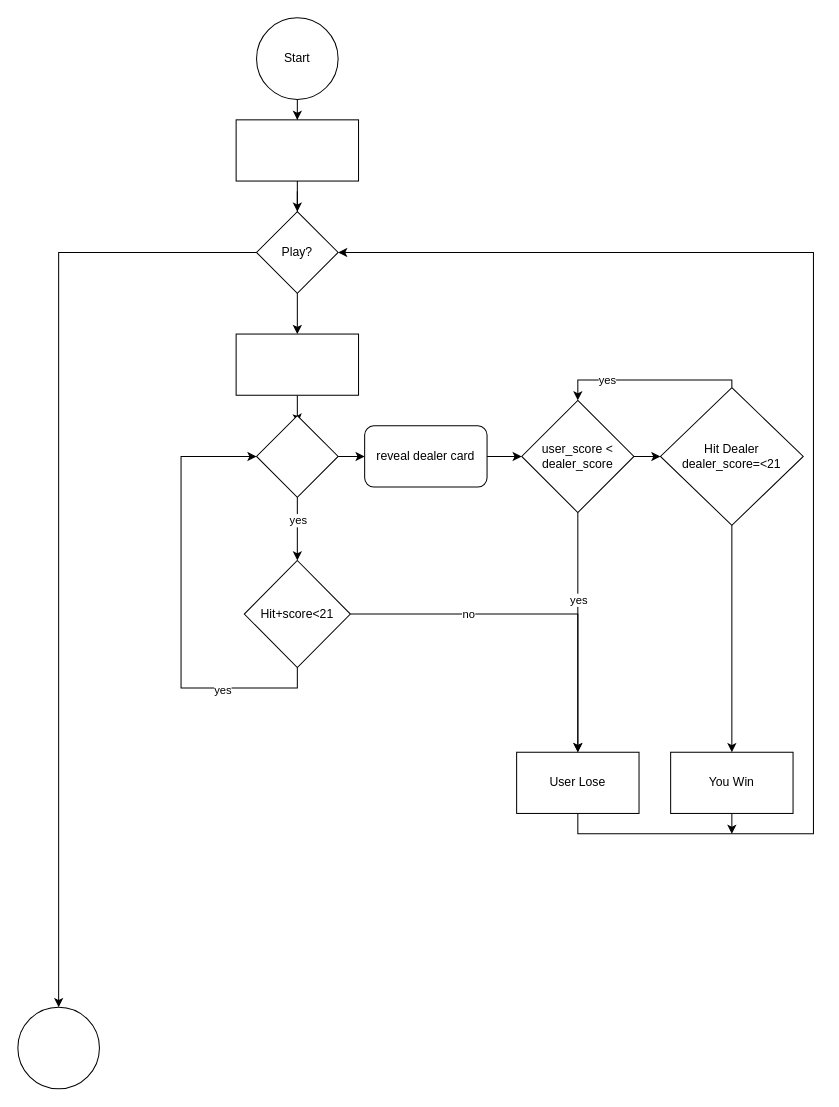
Some shapes in this 839 by 1107 pixel diagram are drawn without their labels. Here are the shapes that lost their labels. From the top down, the centre of each, then its label:
At point 297,150: "Logo".
At point 297,364: "Deal 2 cards for user and Dealer".
At point 297,456: "show score another?".
At point 58,1047: "End".
